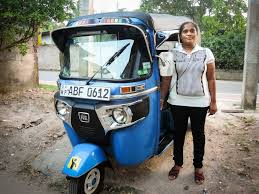tuk tuk: (48, 13, 161, 193)
